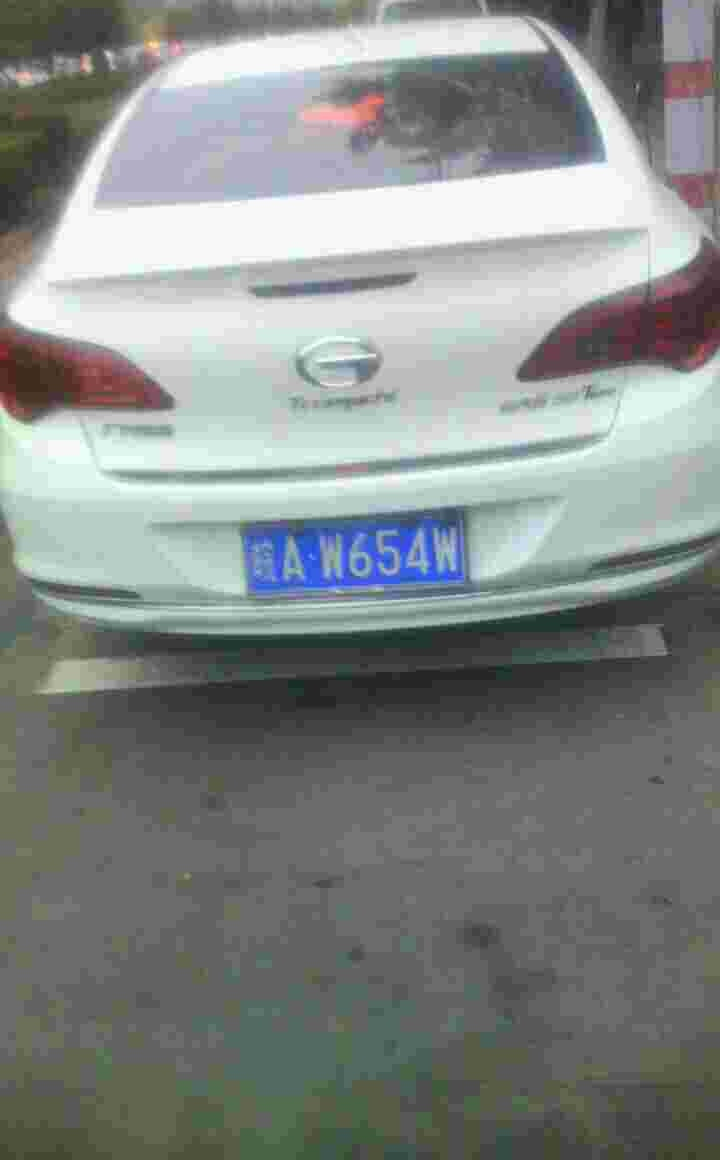license_plate: (224, 517, 462, 602)
